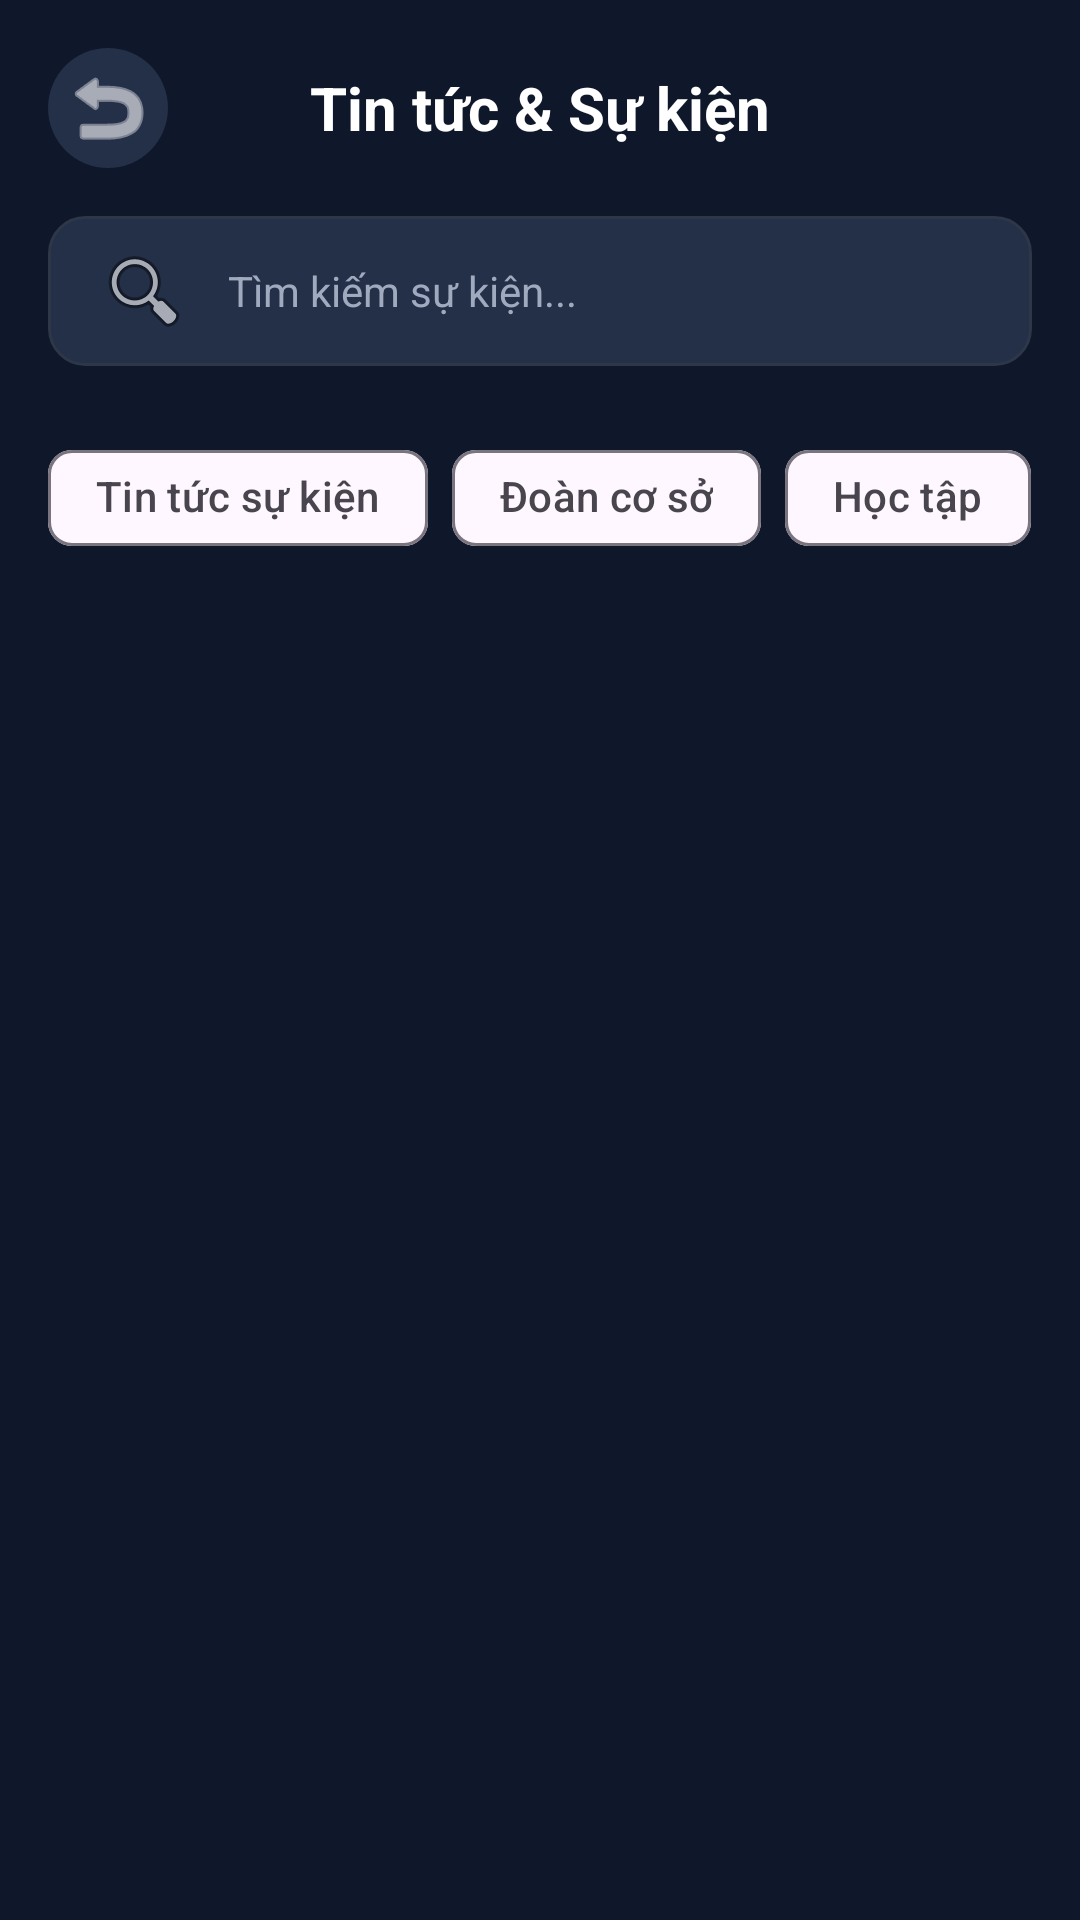

Screen size 1080w x 1920h. Icon name, then its box in pixels as (x1, y1, x2, y2):
revert: (48, 48, 168, 168)
